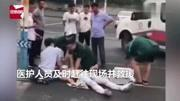Fall-Detected: (56, 59, 136, 95)
